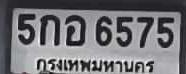5: (17, 13, 35, 44), (156, 16, 173, 46), (115, 16, 132, 46)
6: (95, 14, 111, 44)
7: (136, 16, 153, 46)
A01: (39, 14, 59, 44)
A43: (64, 14, 85, 44)
BKK: (34, 57, 158, 74)
